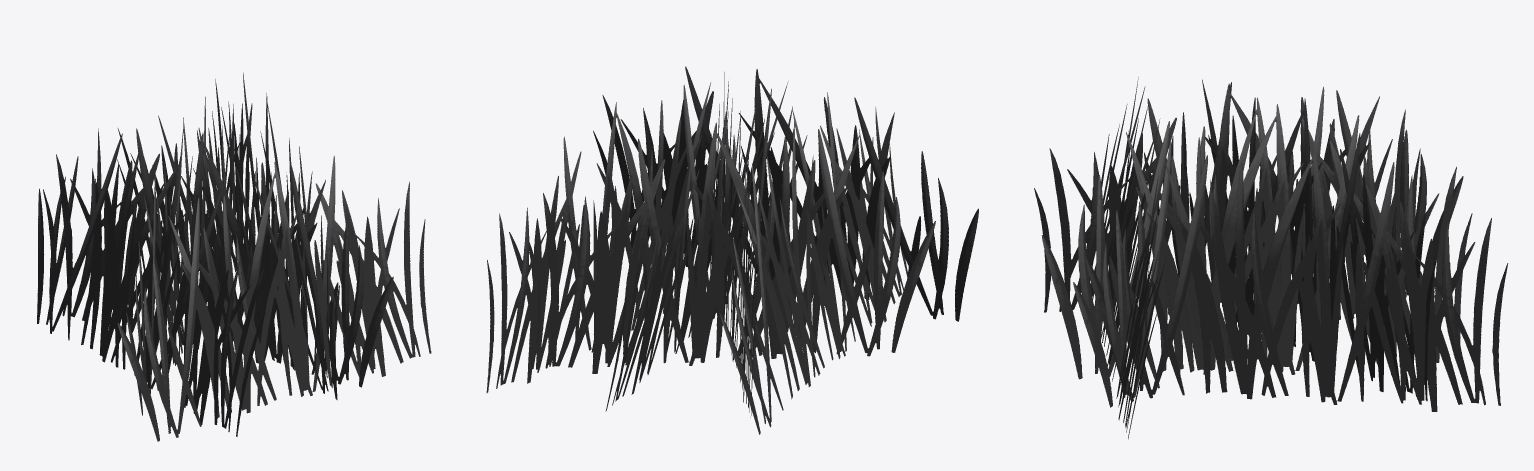
File: grey-good-grass.glb
3 renders of one model, left to right at view 1: azimuth 30°, elevation 25°; view 2: azimuth 150°, elevation 25°; view 3: azimuth 270°, elevation 25°, orthographic. The views are drawn at different scales.
Parts seen in each view (by area): view 1: green-material; view 2: green-material; view 3: green-material.
Boxes of the visible parts, <box> form: green-material: <box>37,72,431,441</box>; green-material: <box>486,66,978,434</box>; green-material: <box>1034,77,1508,439</box>.
Bounding box in the file's own units: 1.01 × 0.6861 × 1.11.
1 material, 1 textured.
